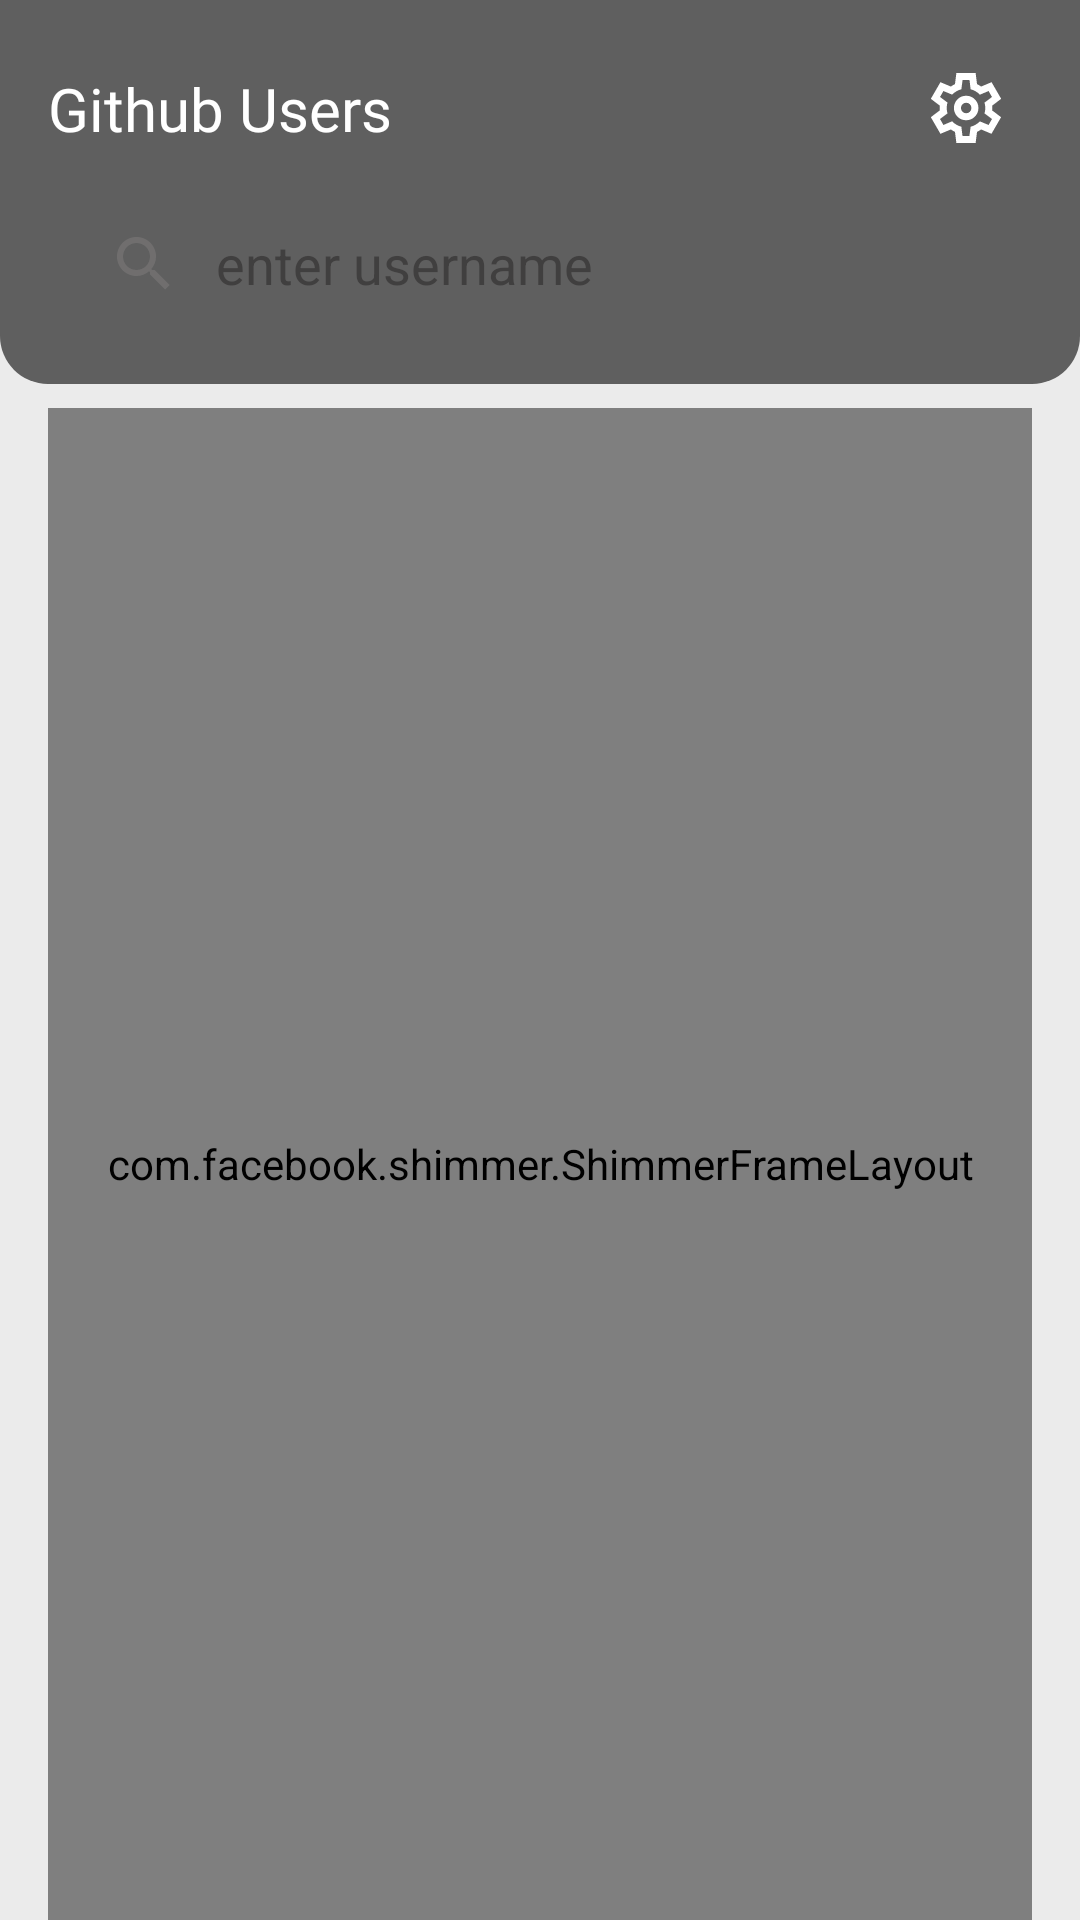

Icon click points for this 1080 × 1920 phone screenshot, format (x,y):
settings: (966,108)
